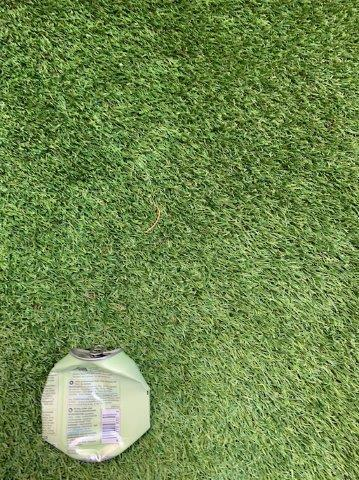kaleng: (41, 349, 149, 460)
